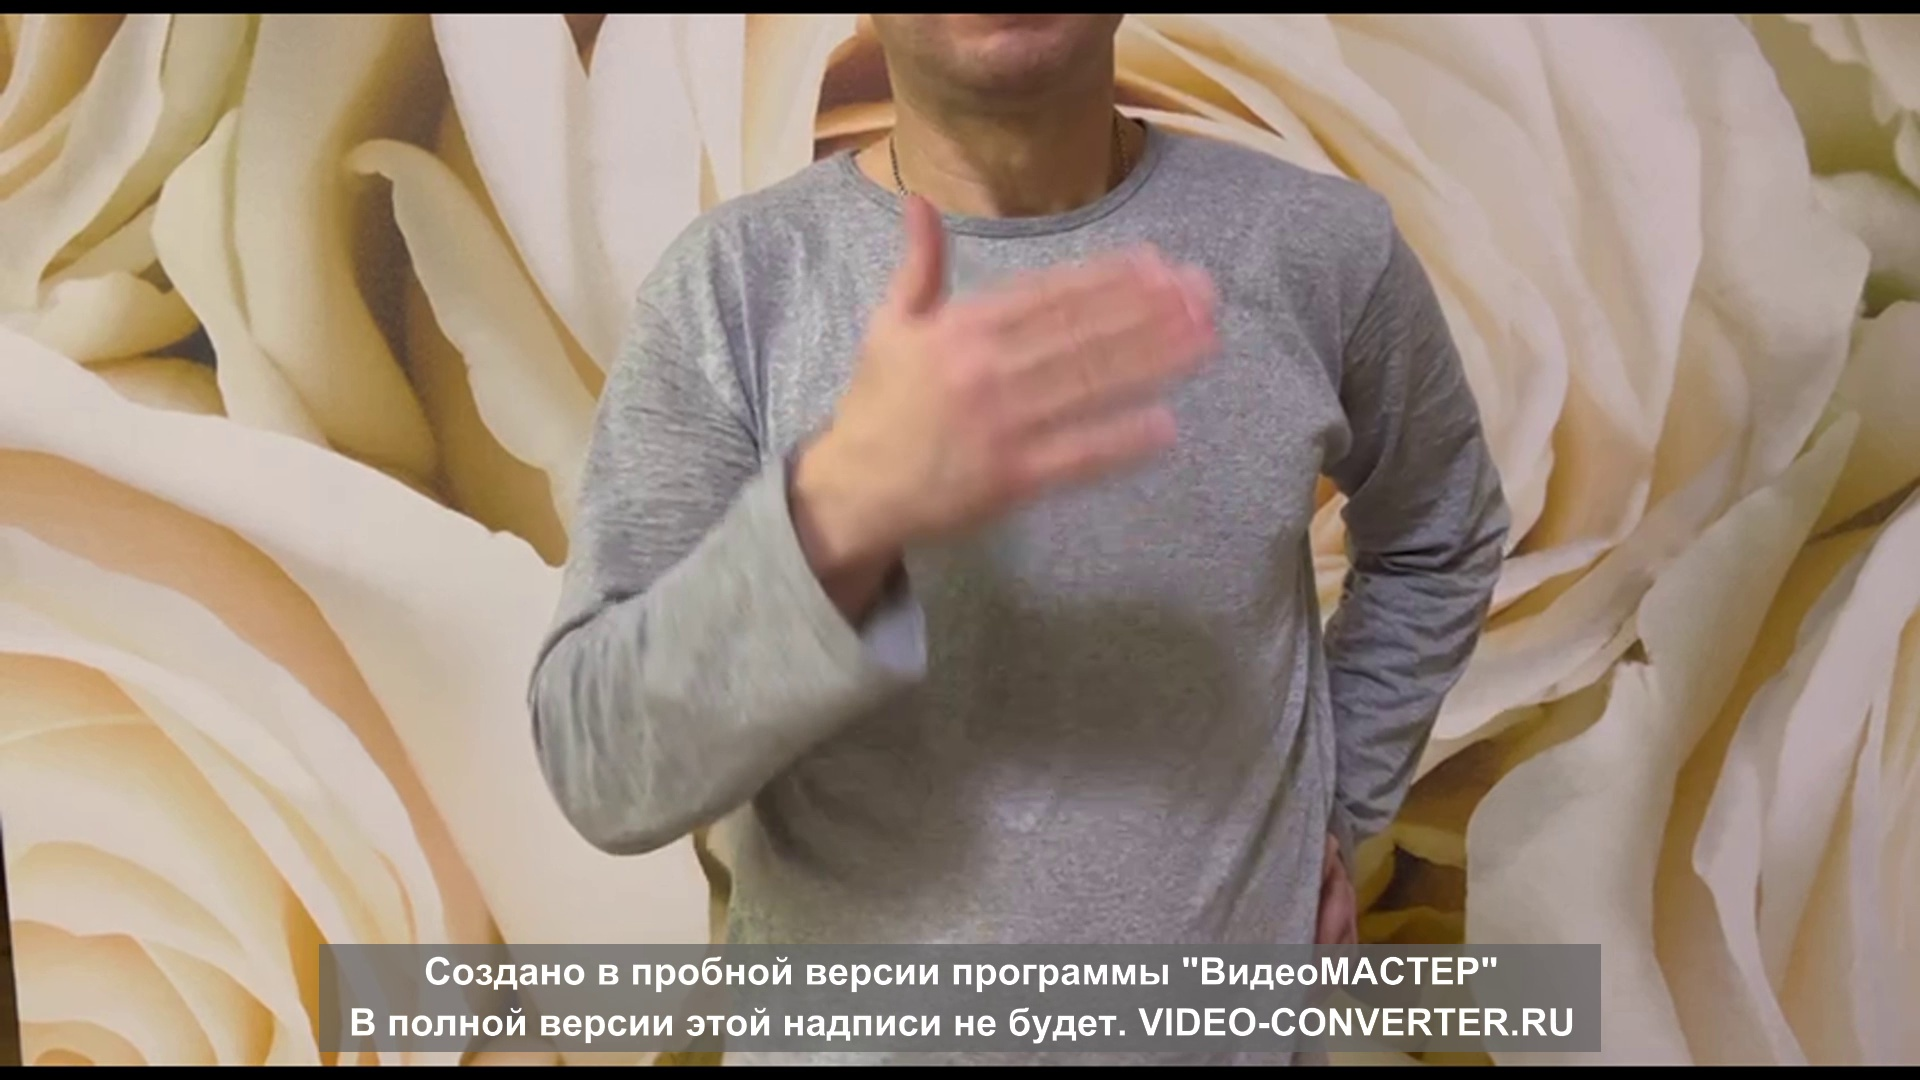Кисть: (839, 193, 1216, 534)
